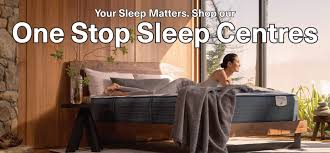bed-matress: (88, 81, 297, 123)
